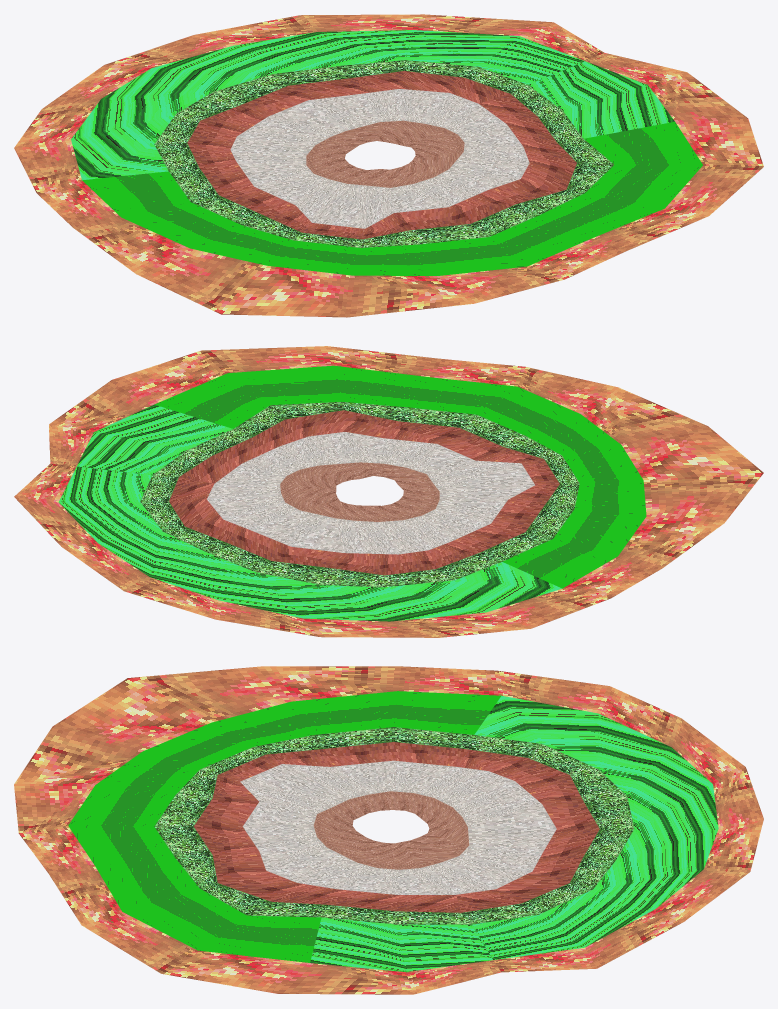
File: loc1.obj
3 views of the same model, one above another, from view 1: azimuth 30°, elevation 25°; view 2: azimuth 150°, elevation 25°; view 3: azimuth 270°, elevation 25° (orthographic). The views are drawn at different scales.
Parts seen in each view (by area): view 1: pSphere1; view 2: pSphere1; view 3: pSphere1.
Boxes of the visible parts, <box> form: pSphere1: <box>14,14,763,317</box>; pSphere1: <box>14,346,763,637</box>; pSphere1: <box>14,666,763,994</box>.
Bounding box in the file's own units: 4509 × 17.32 × 4351.
7 materials, 7 textured.
